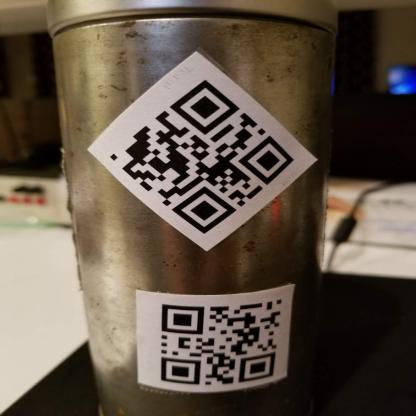qr: (102, 74, 304, 237), (153, 293, 285, 389)
